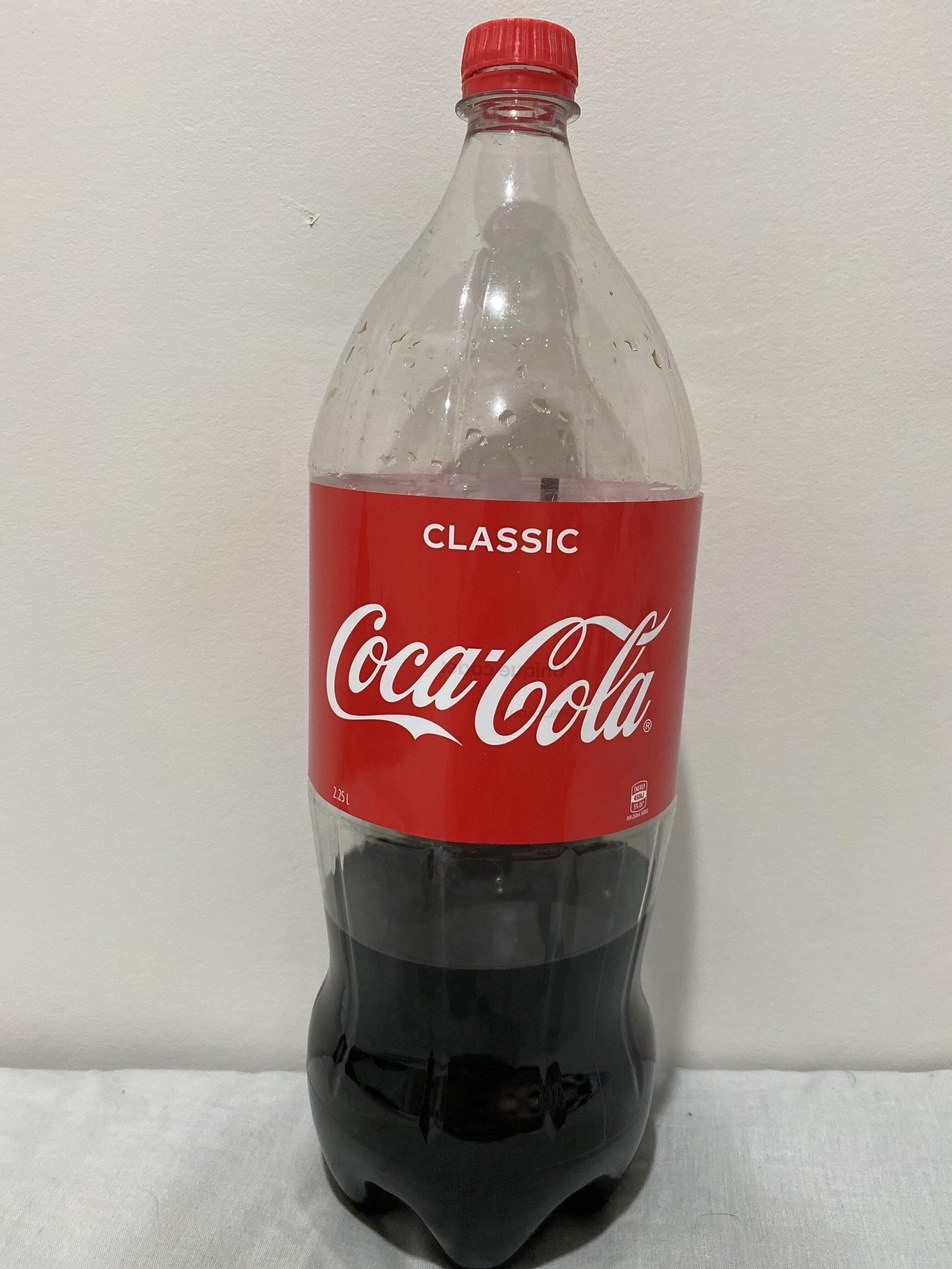bottle-plastic: (293, 3, 710, 1269)
